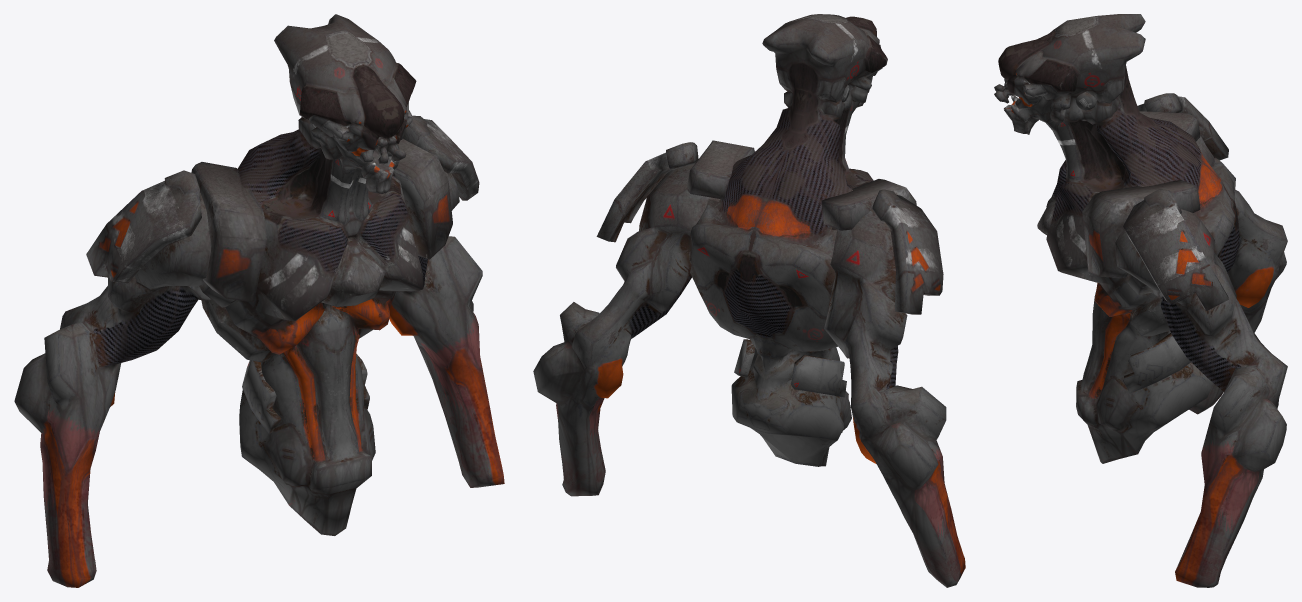
Rendered from mech.fbx.
3 views of the same model, side by side, from view 1: azimuth 30°, elevation 25°; view 2: azimuth 150°, elevation 25°; view 3: azimuth 270°, elevation 25° (orthographic). The views are drawn at different scales.
Parts seen in each view (by area): view 1: g body01_low, g arm01_low, g arm03_low, g arm02_low, g body02_low; view 2: g body01_low, g arm01_low, g arm02_low, g arm03_low, g body02_low; view 3: g body01_low, g arm01_low, g arm02_low, g arm03_low, g body02_low.
Boxes of the visible parts, x1,y1,x2,y2 form: g body01_low: (201, 14, 423, 535); g arm01_low: (14, 171, 504, 587); g arm03_low: (191, 139, 452, 302); g arm02_low: (86, 115, 479, 283); g body02_low: (242, 354, 369, 433); g body01_low: (690, 14, 887, 466); g arm01_low: (533, 164, 965, 587); g arm02_low: (596, 142, 943, 314); g arm03_low: (686, 140, 916, 230); g body02_low: (734, 339, 846, 397); g body01_low: (994, 14, 1239, 463); g arm01_low: (1115, 135, 1287, 587); g arm02_low: (1123, 93, 1228, 310); g arm03_low: (1082, 111, 1200, 278); g body02_low: (1123, 333, 1190, 393).
Bounding box in the file's own units: 173 × 200 × 111.
1 material, 1 textured.
